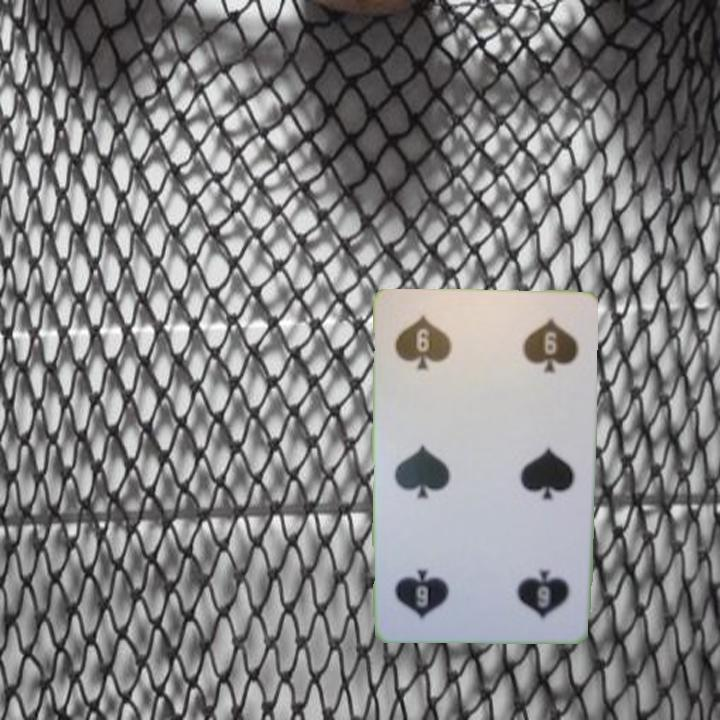s_6.png: (479, 541, 580, 628), (387, 304, 488, 391)
